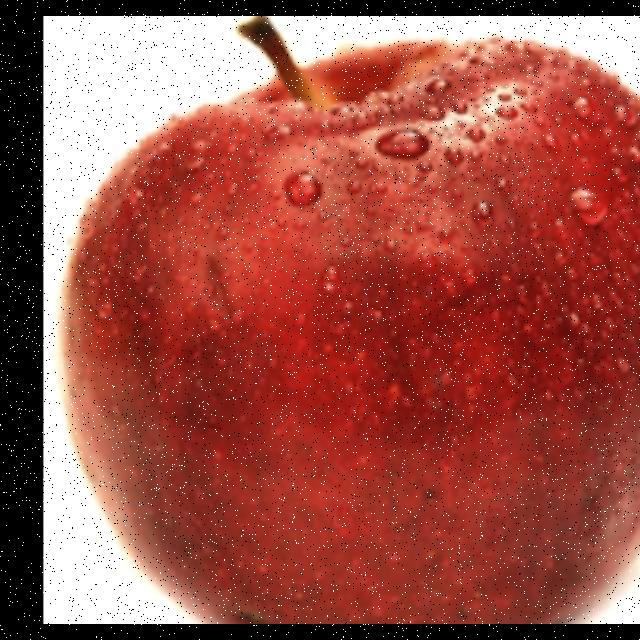Apel Segar: (61, 32, 640, 624)
